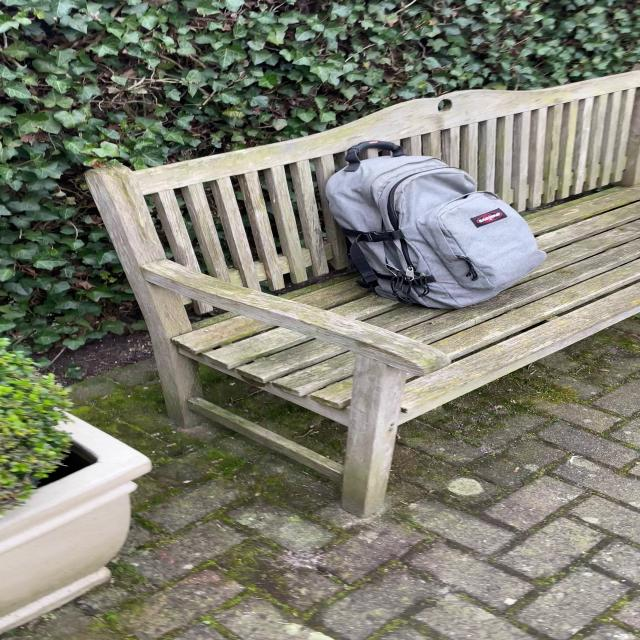backpack: (317, 138, 553, 314)
